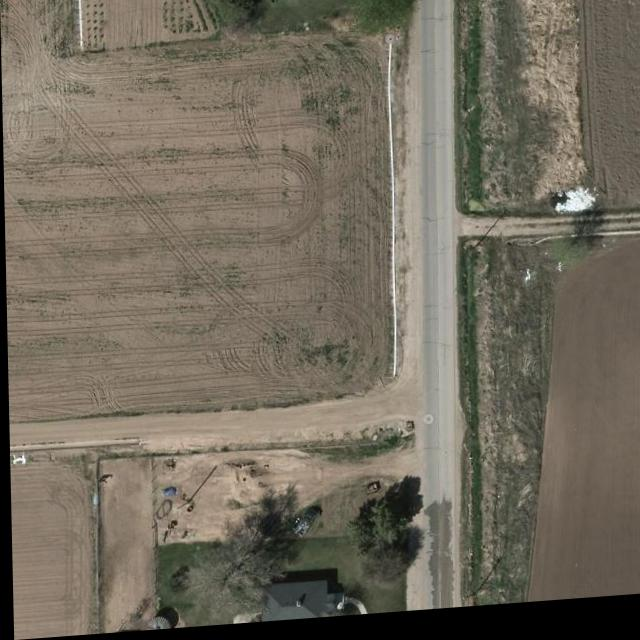vehicle: (287, 511, 321, 544)
